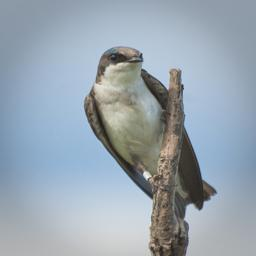Swallow: (84, 46, 219, 221)
